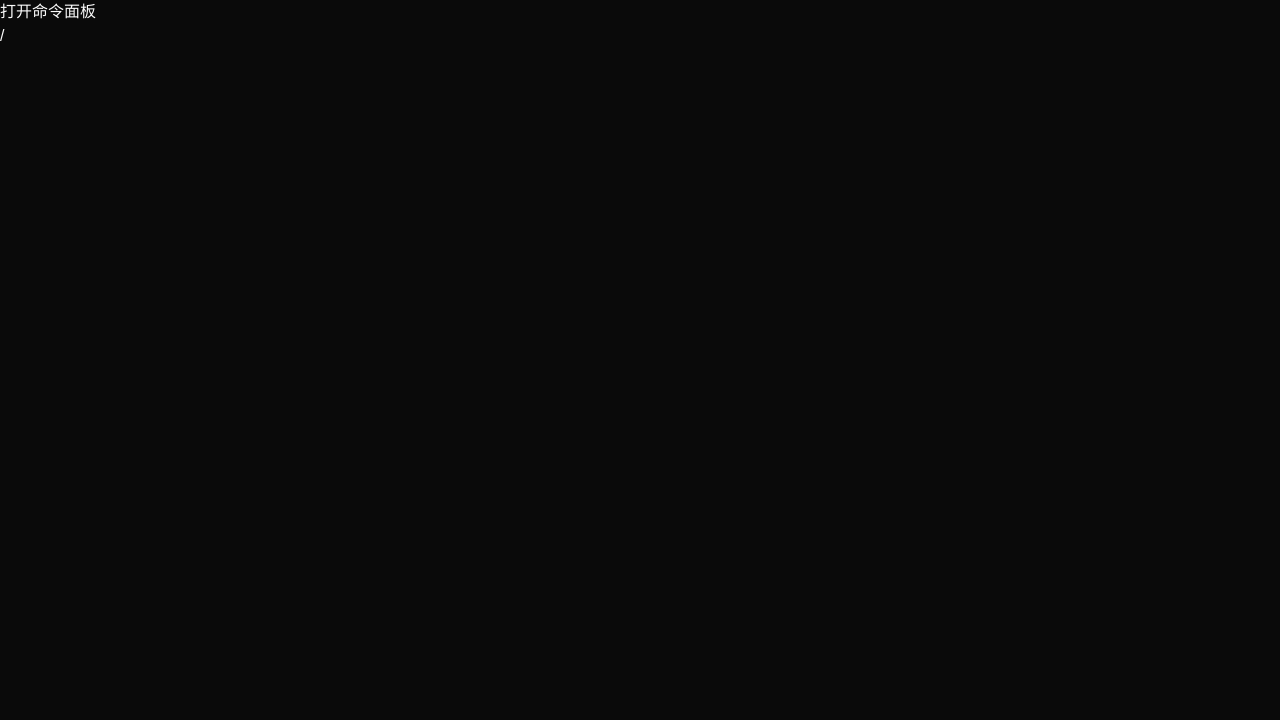
it: CommandPalette › 无结果时给空态，而不是一个空白列表
The width and height of the screenshot is (1280, 720).
Press k
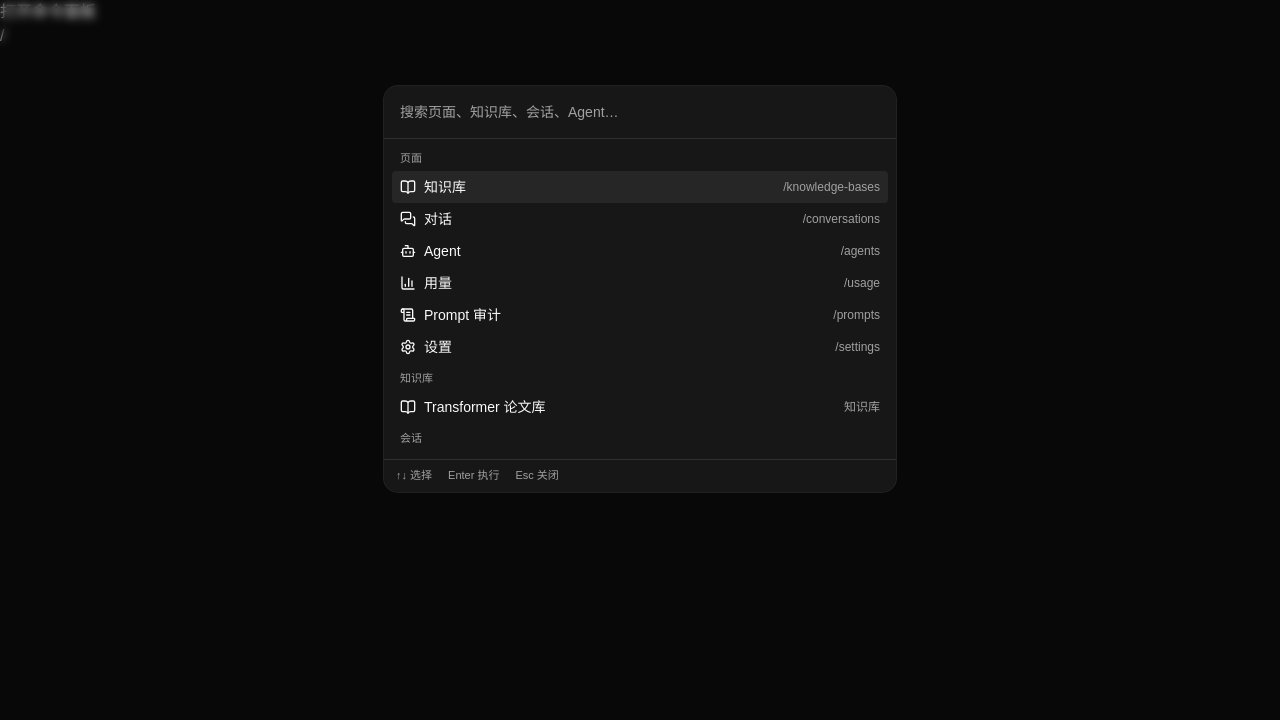
Type "zzzzzz" into the dropdown named "搜索命令".
click(640, 112); type("zzzzzz")  # box [392, 94, 888, 130]
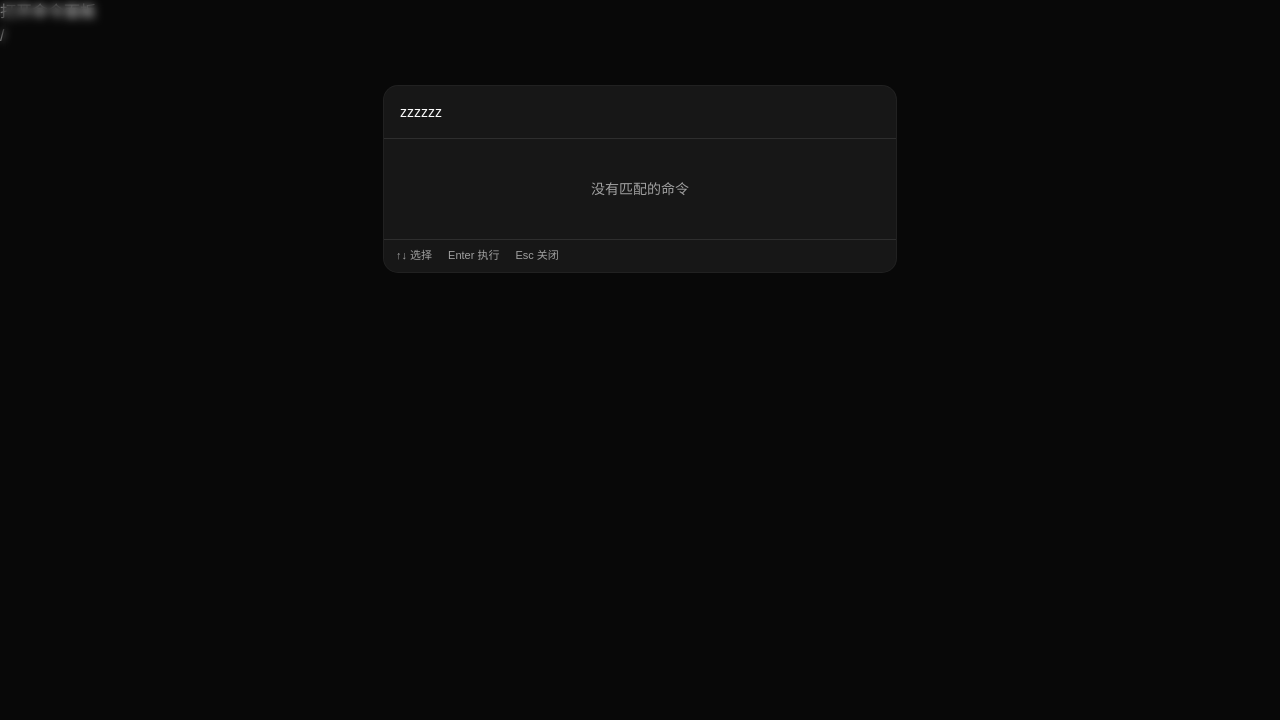
Now the text "没有匹配的命令" is shown, box [591, 181, 689, 197]
Now no options are shown
